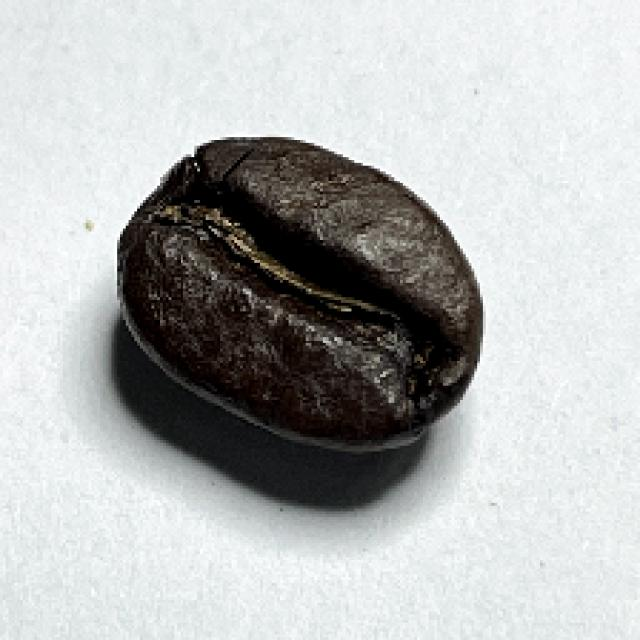bean: (110, 129, 488, 449)
